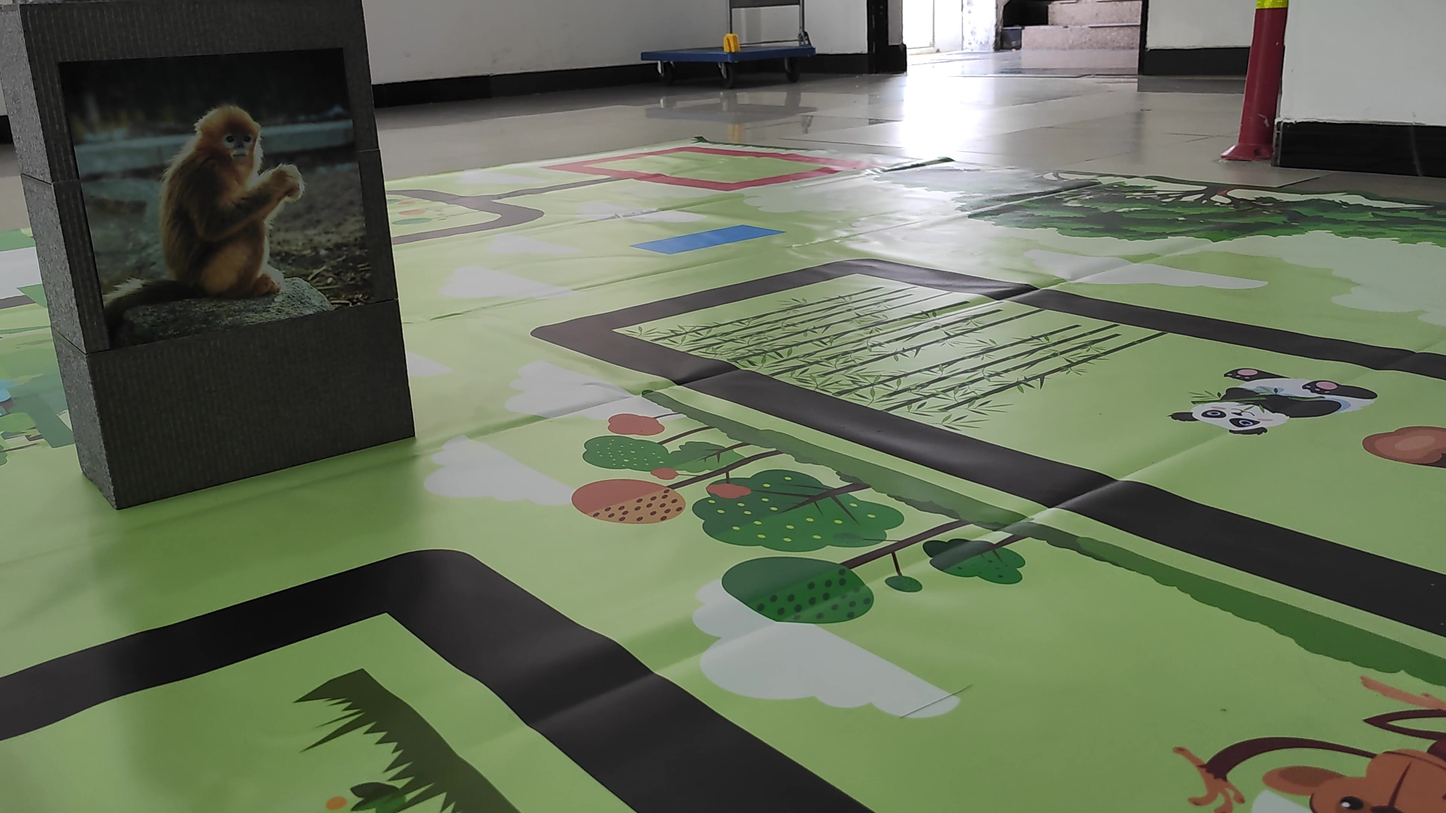monkey: (98, 88, 330, 333)
